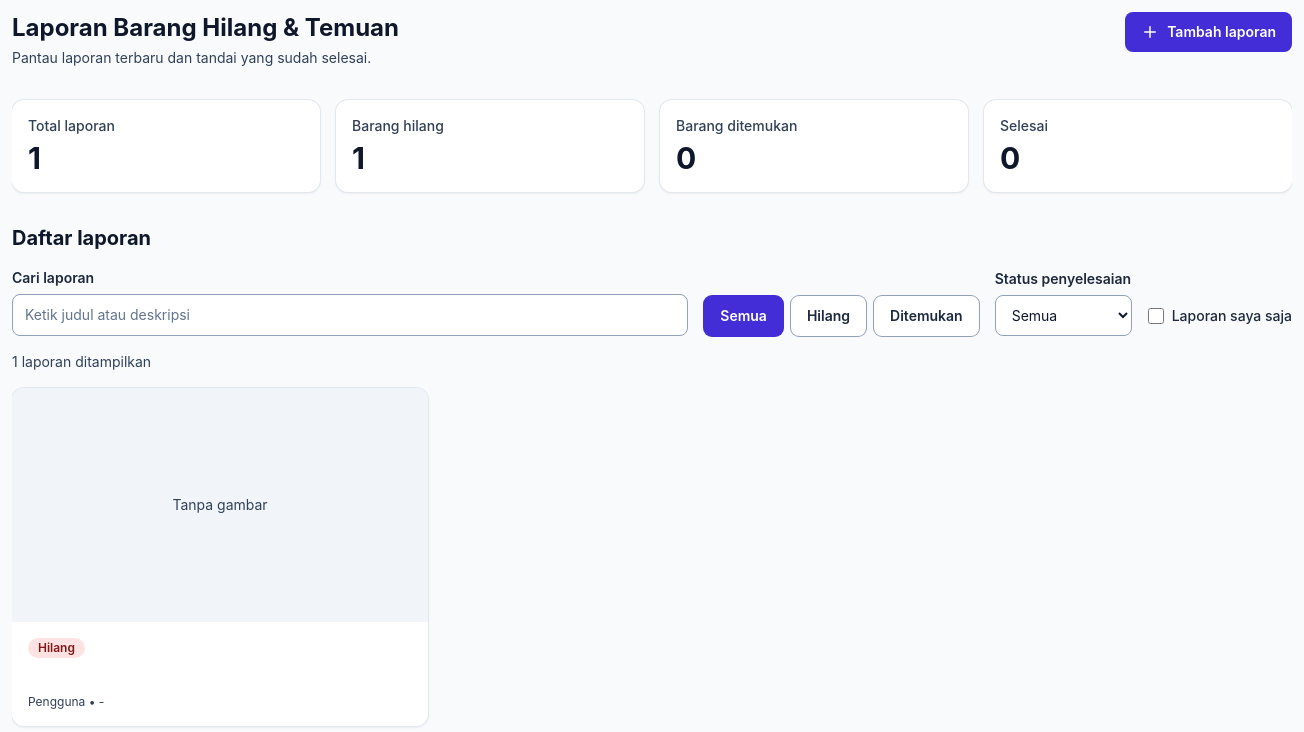
Test: HomePage › should handle null title and description during search
This screenshot has width=1304, height=732.
Step 1. Type "tidak ditemukan" into the search field labelled "Cari laporan" → [350, 315], box [12,294,688,336]
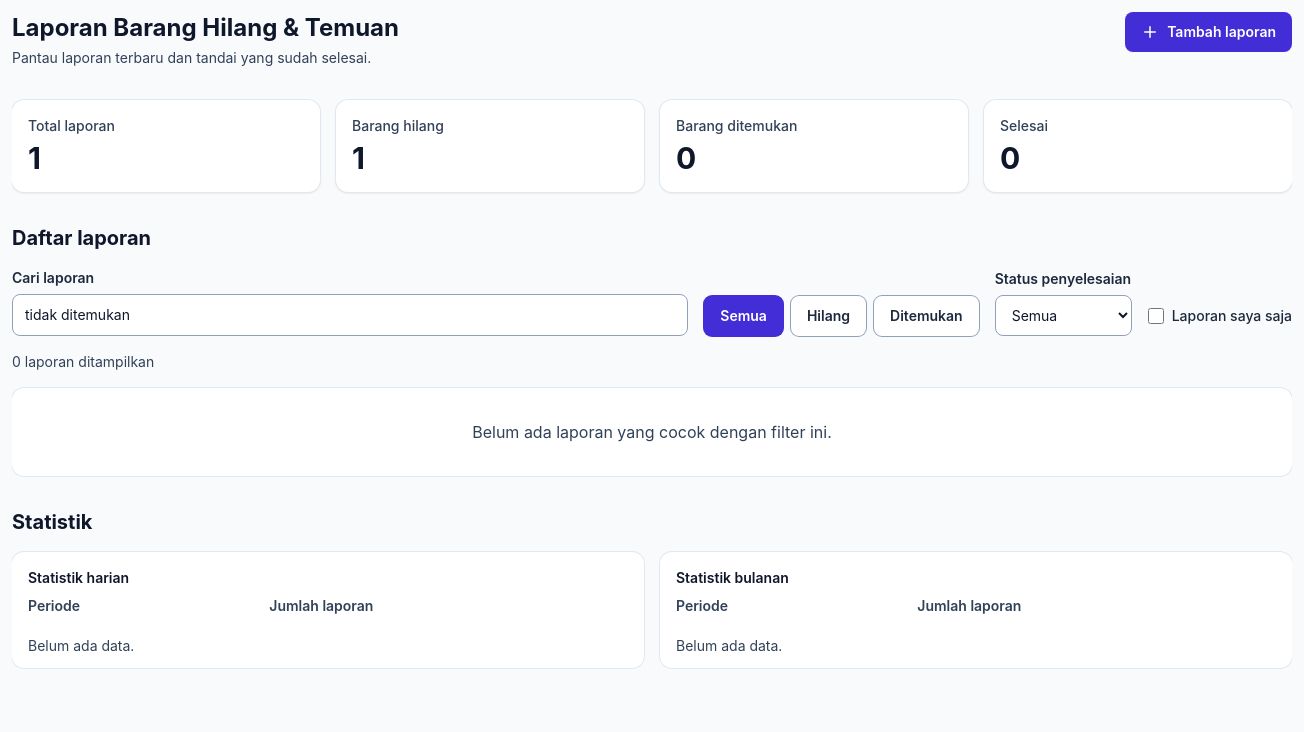
Now the text "Belum ada laporan yang cocok dengan filter ini." is shown, box [12,388,1292,476]
